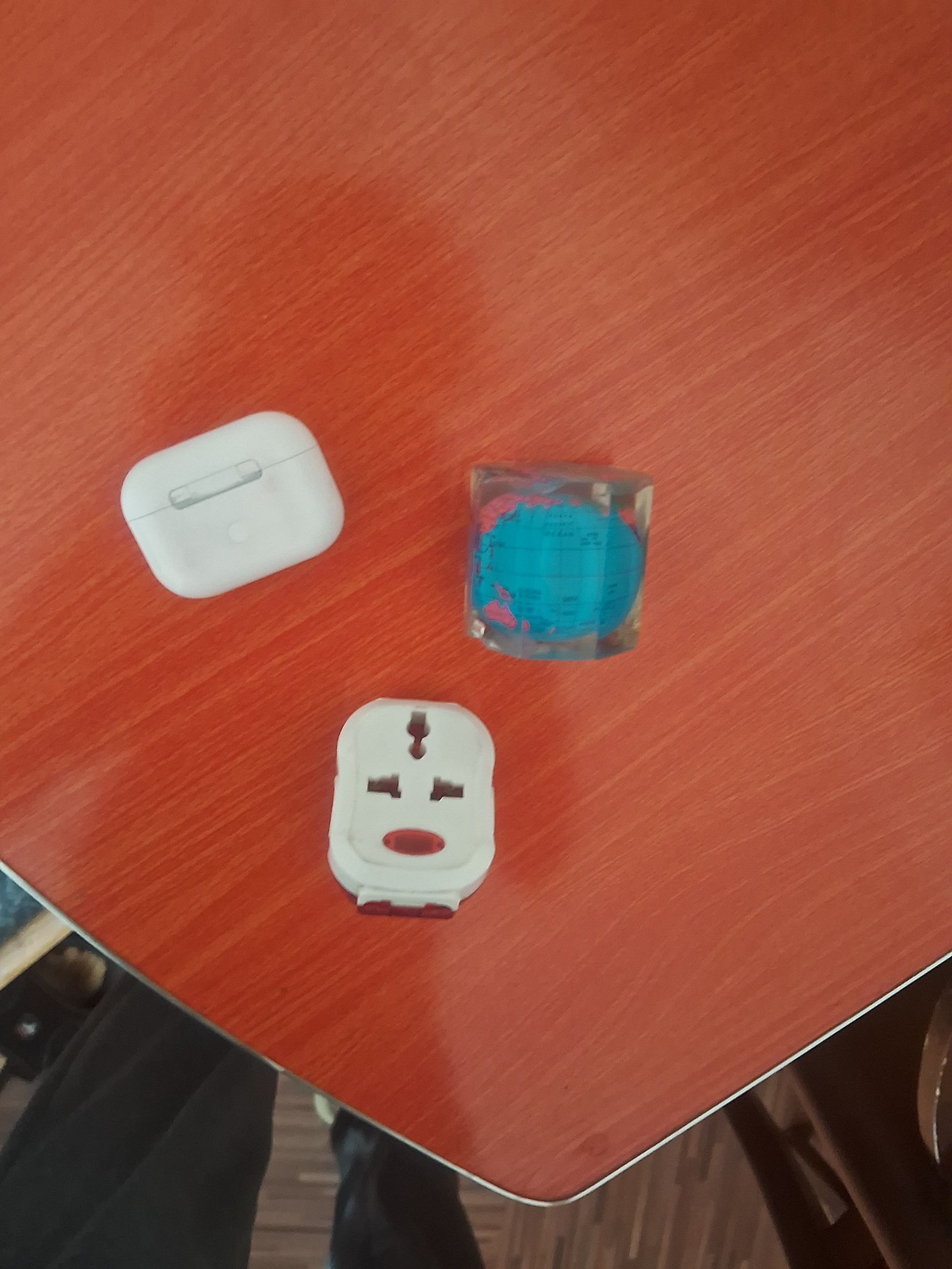Air_pod: (114, 405, 354, 605)
Multi_adapter: (324, 693, 505, 927)
world_globe: (454, 451, 666, 672)
